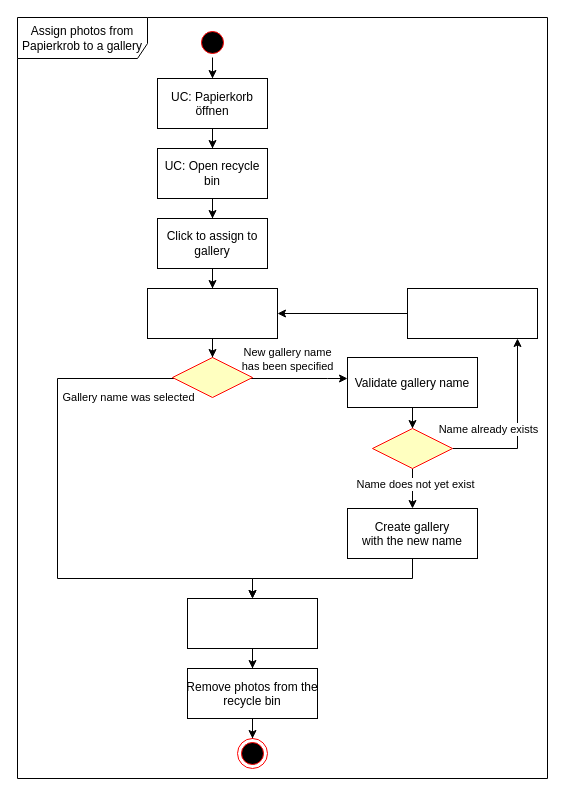
Some shapes in this 565 by 796 pixel diagram are drawn without their labels. Each missing label, with the box of its shape:
Display error message: (406, 288, 538, 338)
Show all possible gallery names: (146, 288, 278, 338)
View all photos at and add to gallery: (186, 598, 318, 648)
